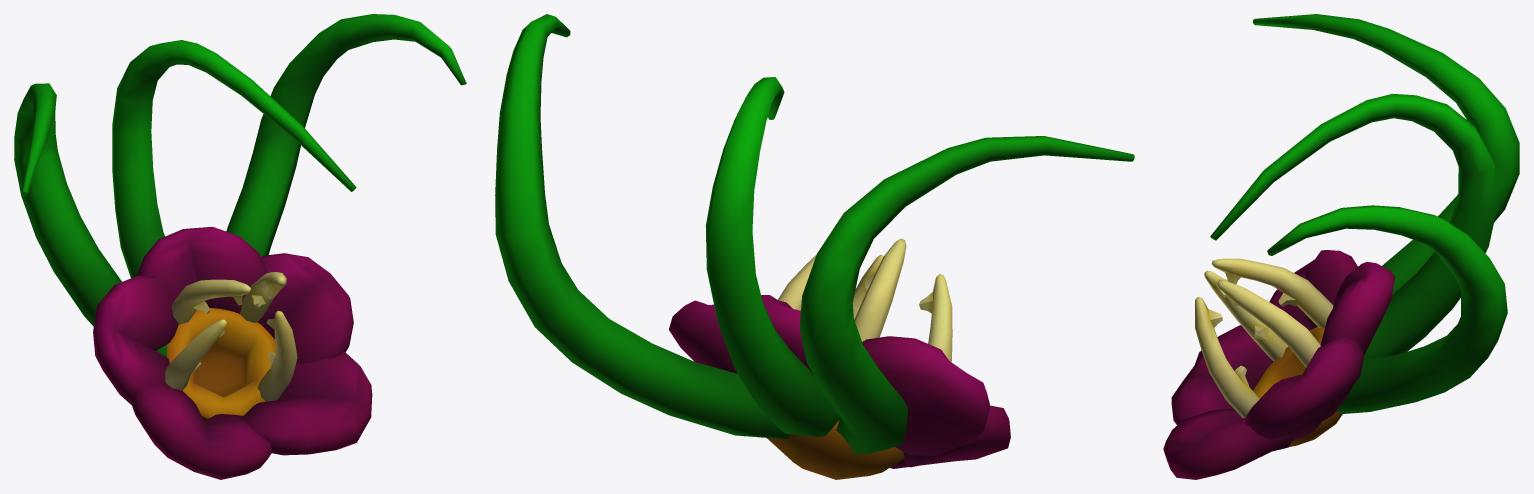
File: Plant_5.fbx
The picture shows the model from 3 angles, left to right: view 1: azimuth 30°, elevation 25°; view 2: azimuth 150°, elevation 25°; view 3: azimuth 270°, elevation 25°; orthographic projection. The views are drawn at different scales.
Parts seen in each view (by area): view 1: Plant_5; view 2: Plant_5; view 3: Plant_5.
Boxes of the visible parts, x1,y1,x2,y2 form: Plant_5: [14, 14, 466, 479]; Plant_5: [495, 14, 1134, 479]; Plant_5: [1163, 14, 1519, 479].
Bounding box in the file's own units: 708 × 519 × 463.
